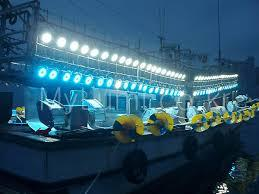Ship: (1, 1, 259, 194)
